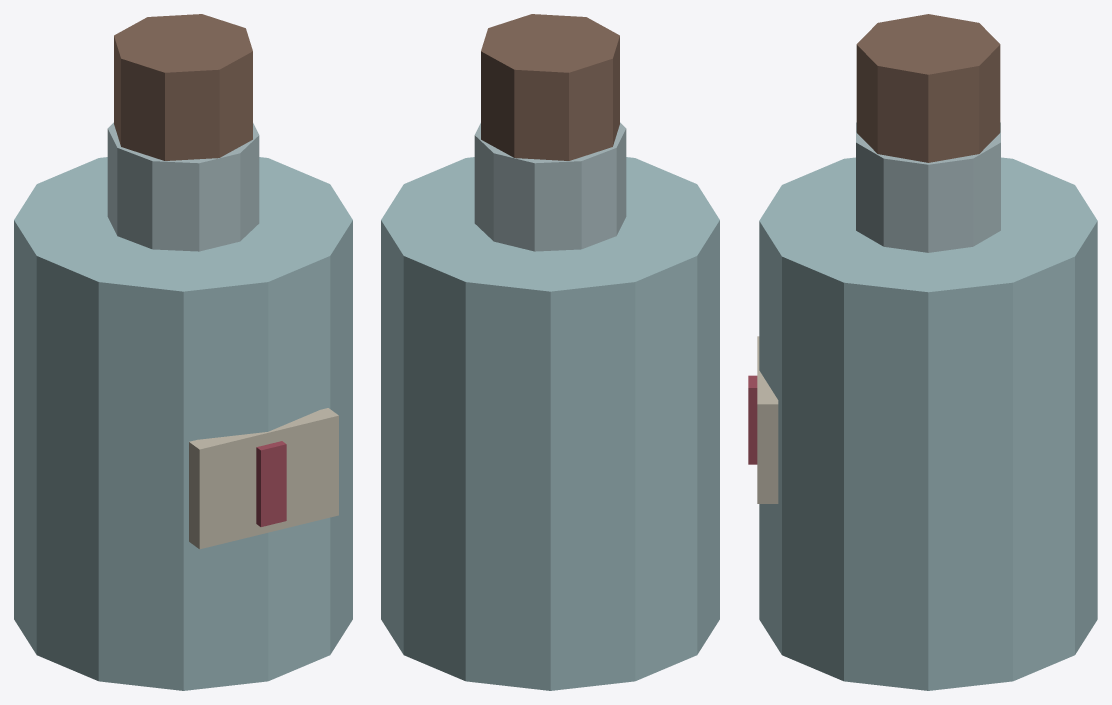
Rendered from loot_health_potion.glb.
The picture shows the model from 3 angles, left to right: view 1: azimuth 30°, elevation 25°; view 2: azimuth 150°, elevation 25°; view 3: azimuth 270°, elevation 25°; orthographic projection.
Visible parts, largest first — view 1: glass_body, cork, neck, label, label_cross; view 2: glass_body, cork, neck; view 3: glass_body, cork, neck, label, label_cross.
Part boxes in pixels (x1=…): glass_body: x1=14, y1=157, x2=352, y2=690; cork: x1=114, y1=14, x2=252, y2=160; neck: x1=107, y1=122, x2=259, y2=251; label: x1=189, y1=408, x2=338, y2=549; label_cross: x1=256, y1=441, x2=286, y2=526; glass_body: x1=381, y1=157, x2=719, y2=690; cork: x1=481, y1=14, x2=619, y2=160; neck: x1=474, y1=122, x2=626, y2=251; glass_body: x1=759, y1=157, x2=1097, y2=690; cork: x1=856, y1=14, x2=1000, y2=162; neck: x1=856, y1=122, x2=1000, y2=252; label: x1=757, y1=336, x2=778, y2=503; label_cross: x1=748, y1=375, x2=757, y2=464.
Size of the model in its own units: 0.4 by 0.75 by 0.413.
